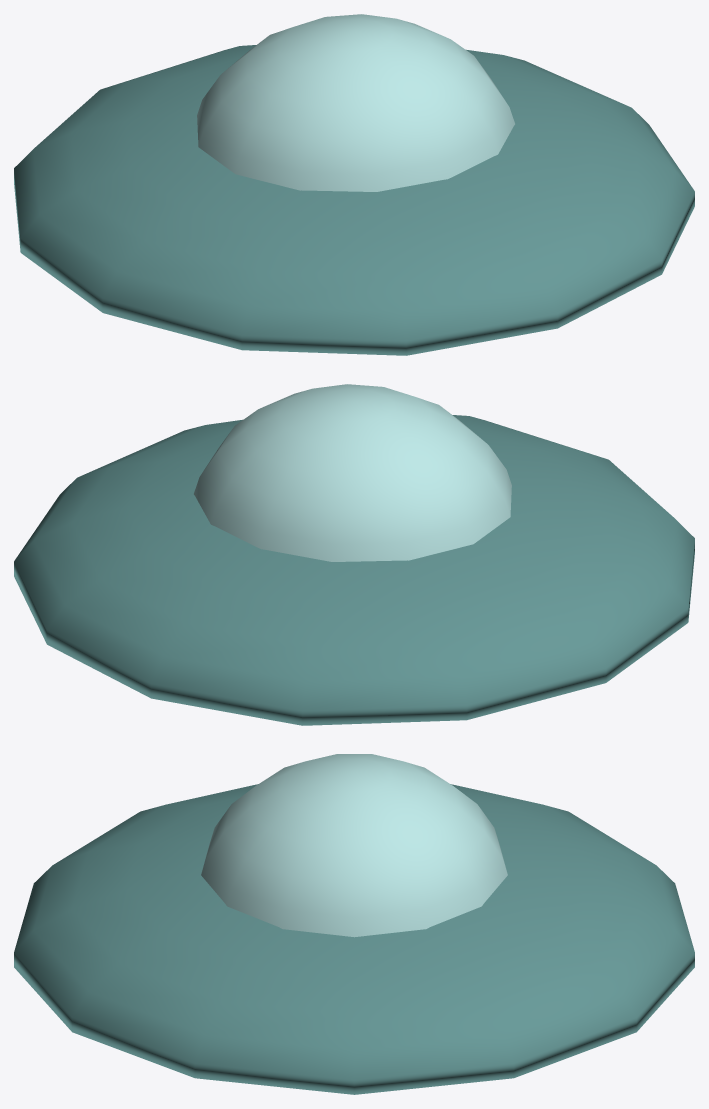
The model's file is UFO_model.fbx.
3 renders of one model, top to bottom at view 1: azimuth 30°, elevation 25°; view 2: azimuth 150°, elevation 25°; view 3: azimuth 270°, elevation 25°, orthographic.
Parts seen in each view (by area): view 1: pSphere4; view 2: pSphere4; view 3: pSphere4.
Boxes of the visible parts, x1,y1,x2,y2 form: pSphere4: [14, 14, 694, 355]; pSphere4: [14, 384, 694, 725]; pSphere4: [14, 754, 694, 1094].
Size of the model in its own units: 116 by 33.81 by 116.
